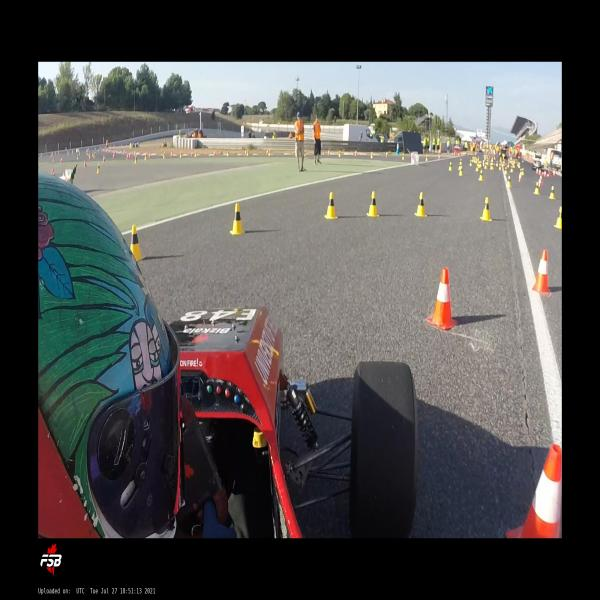orange_cone: (507, 445, 562, 538), (426, 268, 456, 330), (532, 249, 551, 296), (518, 172, 522, 183), (538, 177, 542, 187), (126, 153, 129, 160), (84, 159, 86, 167), (327, 150, 330, 155), (88, 155, 91, 160), (191, 150, 193, 157), (103, 155, 105, 162), (386, 151, 388, 157), (438, 153, 440, 159), (355, 150, 357, 156), (266, 149, 268, 155), (148, 152, 150, 158), (245, 149, 246, 156), (171, 151, 172, 157), (214, 151, 215, 156)
yellow_cone: (130, 224, 144, 260), (230, 202, 245, 235), (324, 192, 337, 219), (367, 191, 379, 217), (415, 192, 427, 217), (480, 197, 491, 222), (553, 206, 562, 230), (548, 185, 556, 200), (533, 181, 540, 195), (478, 169, 483, 182), (506, 176, 511, 189), (134, 155, 138, 164), (459, 165, 462, 176), (144, 152, 148, 160), (449, 161, 452, 171), (458, 162, 461, 171), (97, 164, 100, 173), (425, 154, 428, 161), (338, 150, 341, 157), (163, 152, 166, 159), (402, 152, 404, 160), (370, 152, 372, 159), (268, 149, 270, 156), (246, 150, 248, 157), (227, 150, 229, 157), (180, 151, 182, 158), (304, 150, 306, 156), (194, 151, 196, 157)
